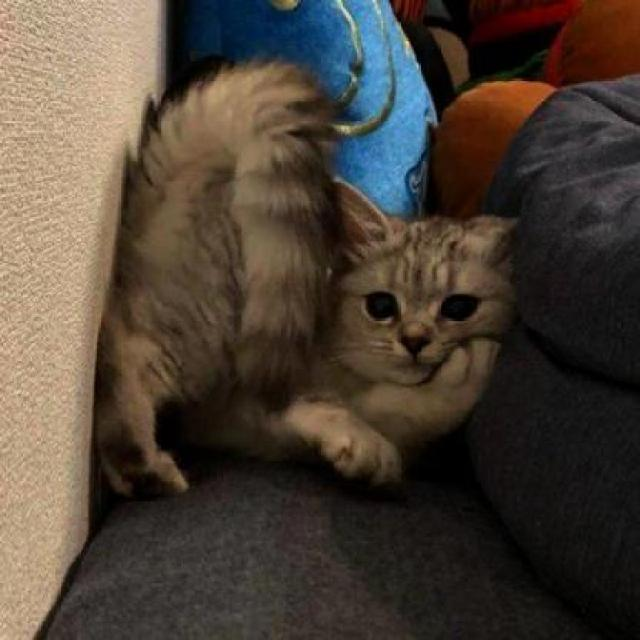cat: (99, 52, 526, 510)
